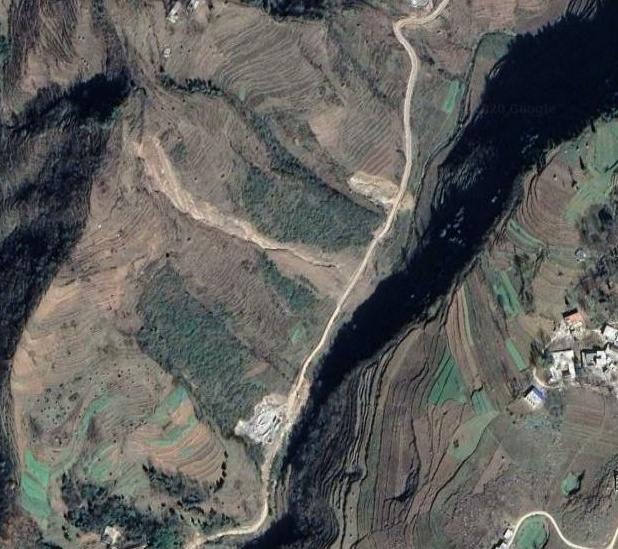slope: (132, 131, 366, 298), (232, 379, 311, 477), (347, 167, 413, 209)
